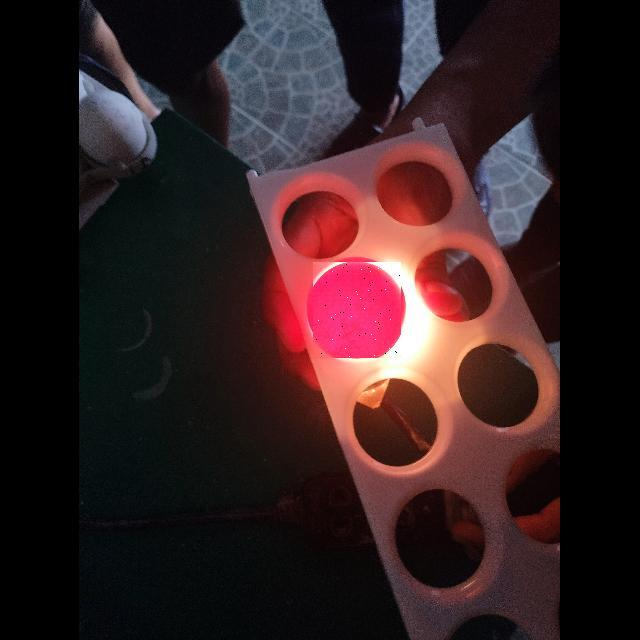Infertile: (313, 262, 401, 358)
